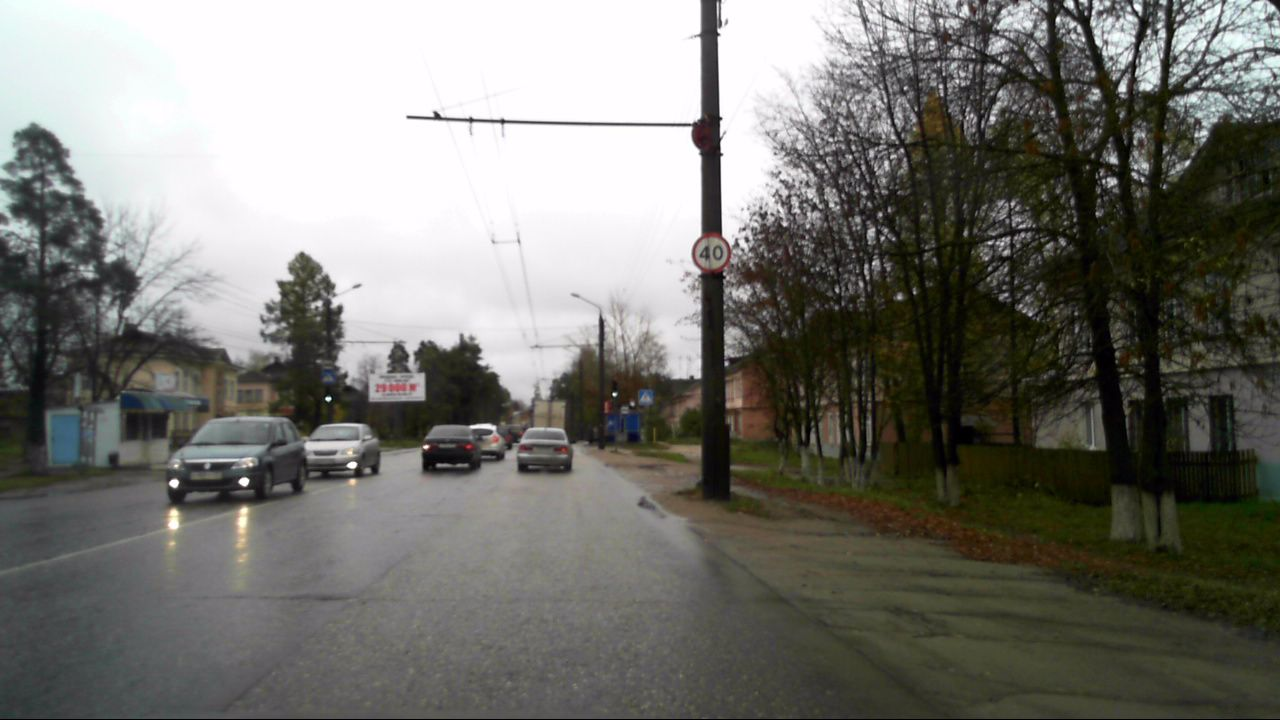speed_warning_40: (691, 233, 732, 273)
